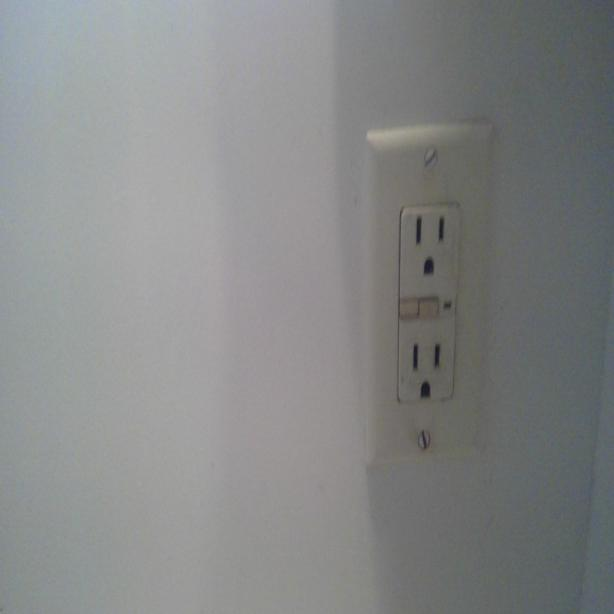typeb: (400, 212, 458, 289), (399, 322, 454, 402)
